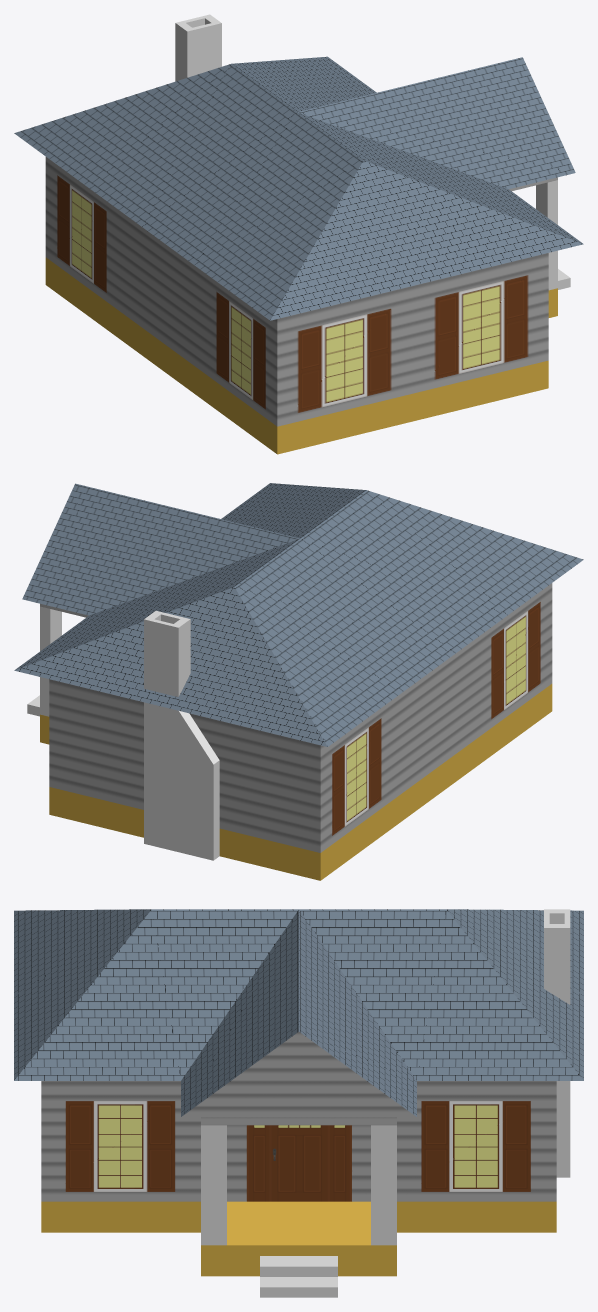
File: BaseHouseTest.fbx
The picture shows the model from 3 angles, top to bottom: view 1: azimuth 30°, elevation 25°; view 2: azimuth 150°, elevation 25°; view 3: azimuth 270°, elevation 25°; orthographic projection. The views are drawn at different scales.
Visible parts, largest first — view 1: House, Chimnee; view 2: House, Chimnee; view 3: House, Chimnee, Front Stairs.
Part boxes in pixels (x1,y1,x2,y2): House: (14, 56, 583, 454); Chimnee: (175, 14, 221, 81); House: (14, 483, 583, 880); Chimnee: (144, 610, 219, 860); House: (14, 909, 583, 1276); Chimnee: (544, 909, 570, 1177); Front Stairs: (260, 1256, 337, 1297).
Bounding box in the file's own units: 1266 × 661 × 1367.
Materials: 5 (2 with a texture image).
